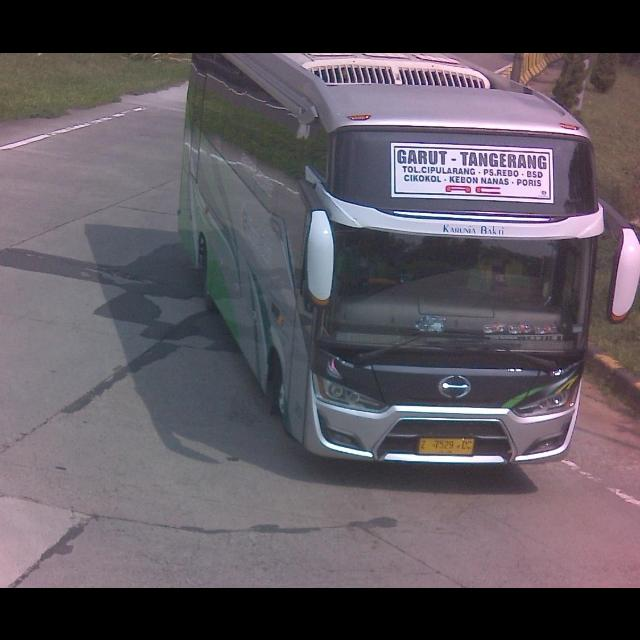plate: (418, 436, 474, 454)
